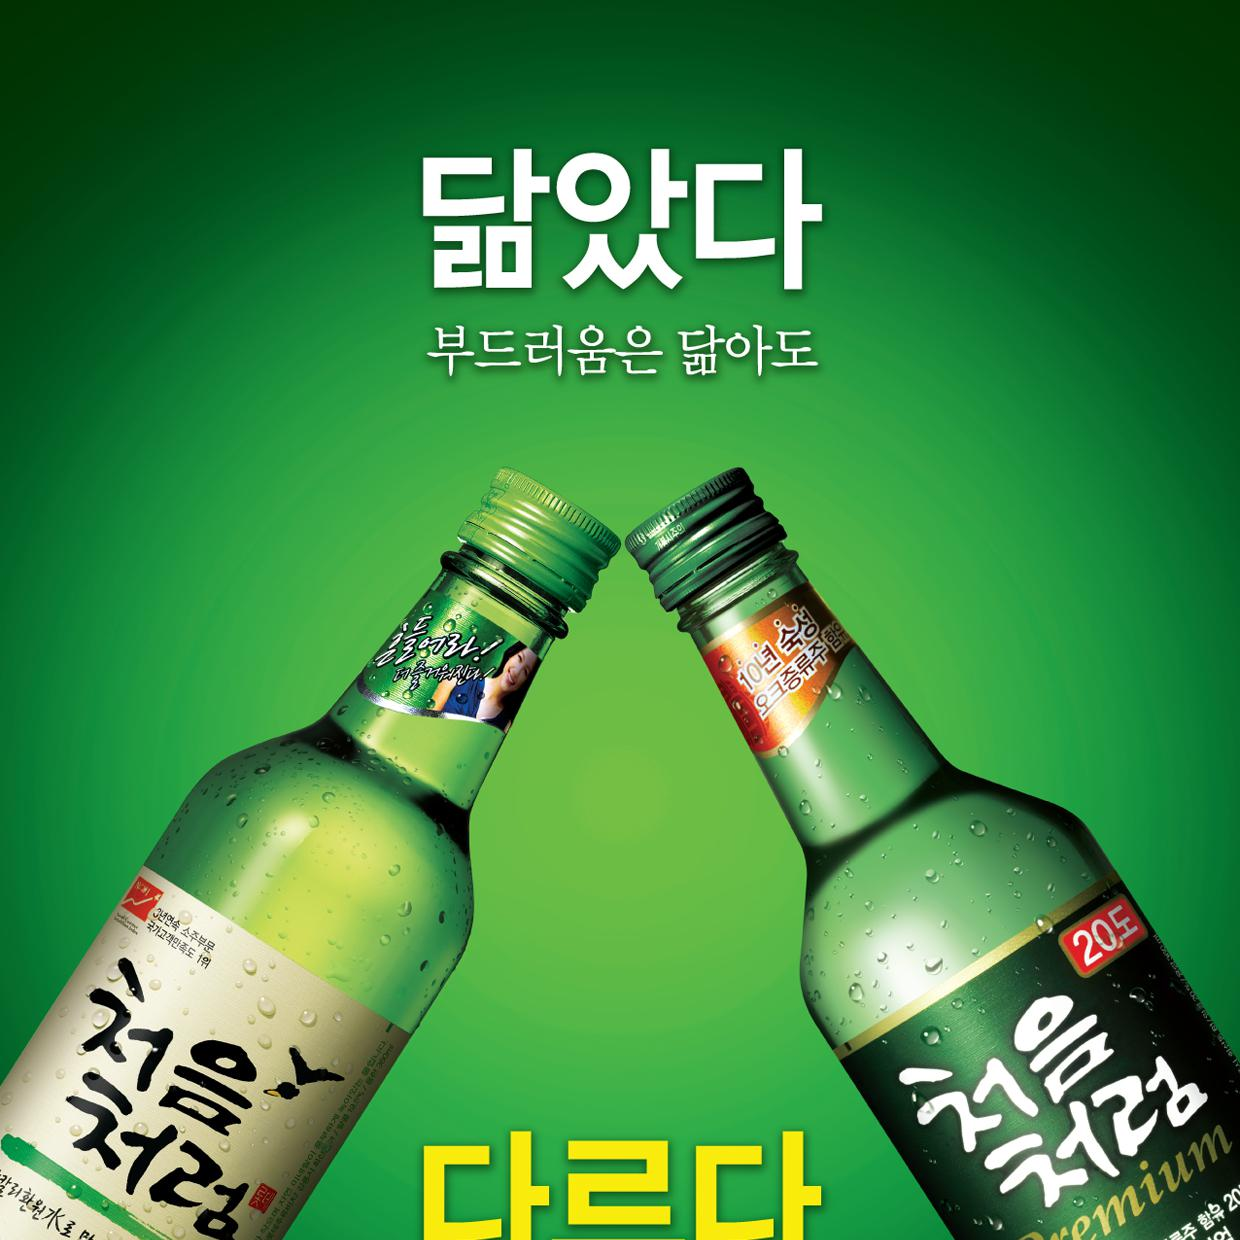soju: (8, 462, 1231, 1240)
